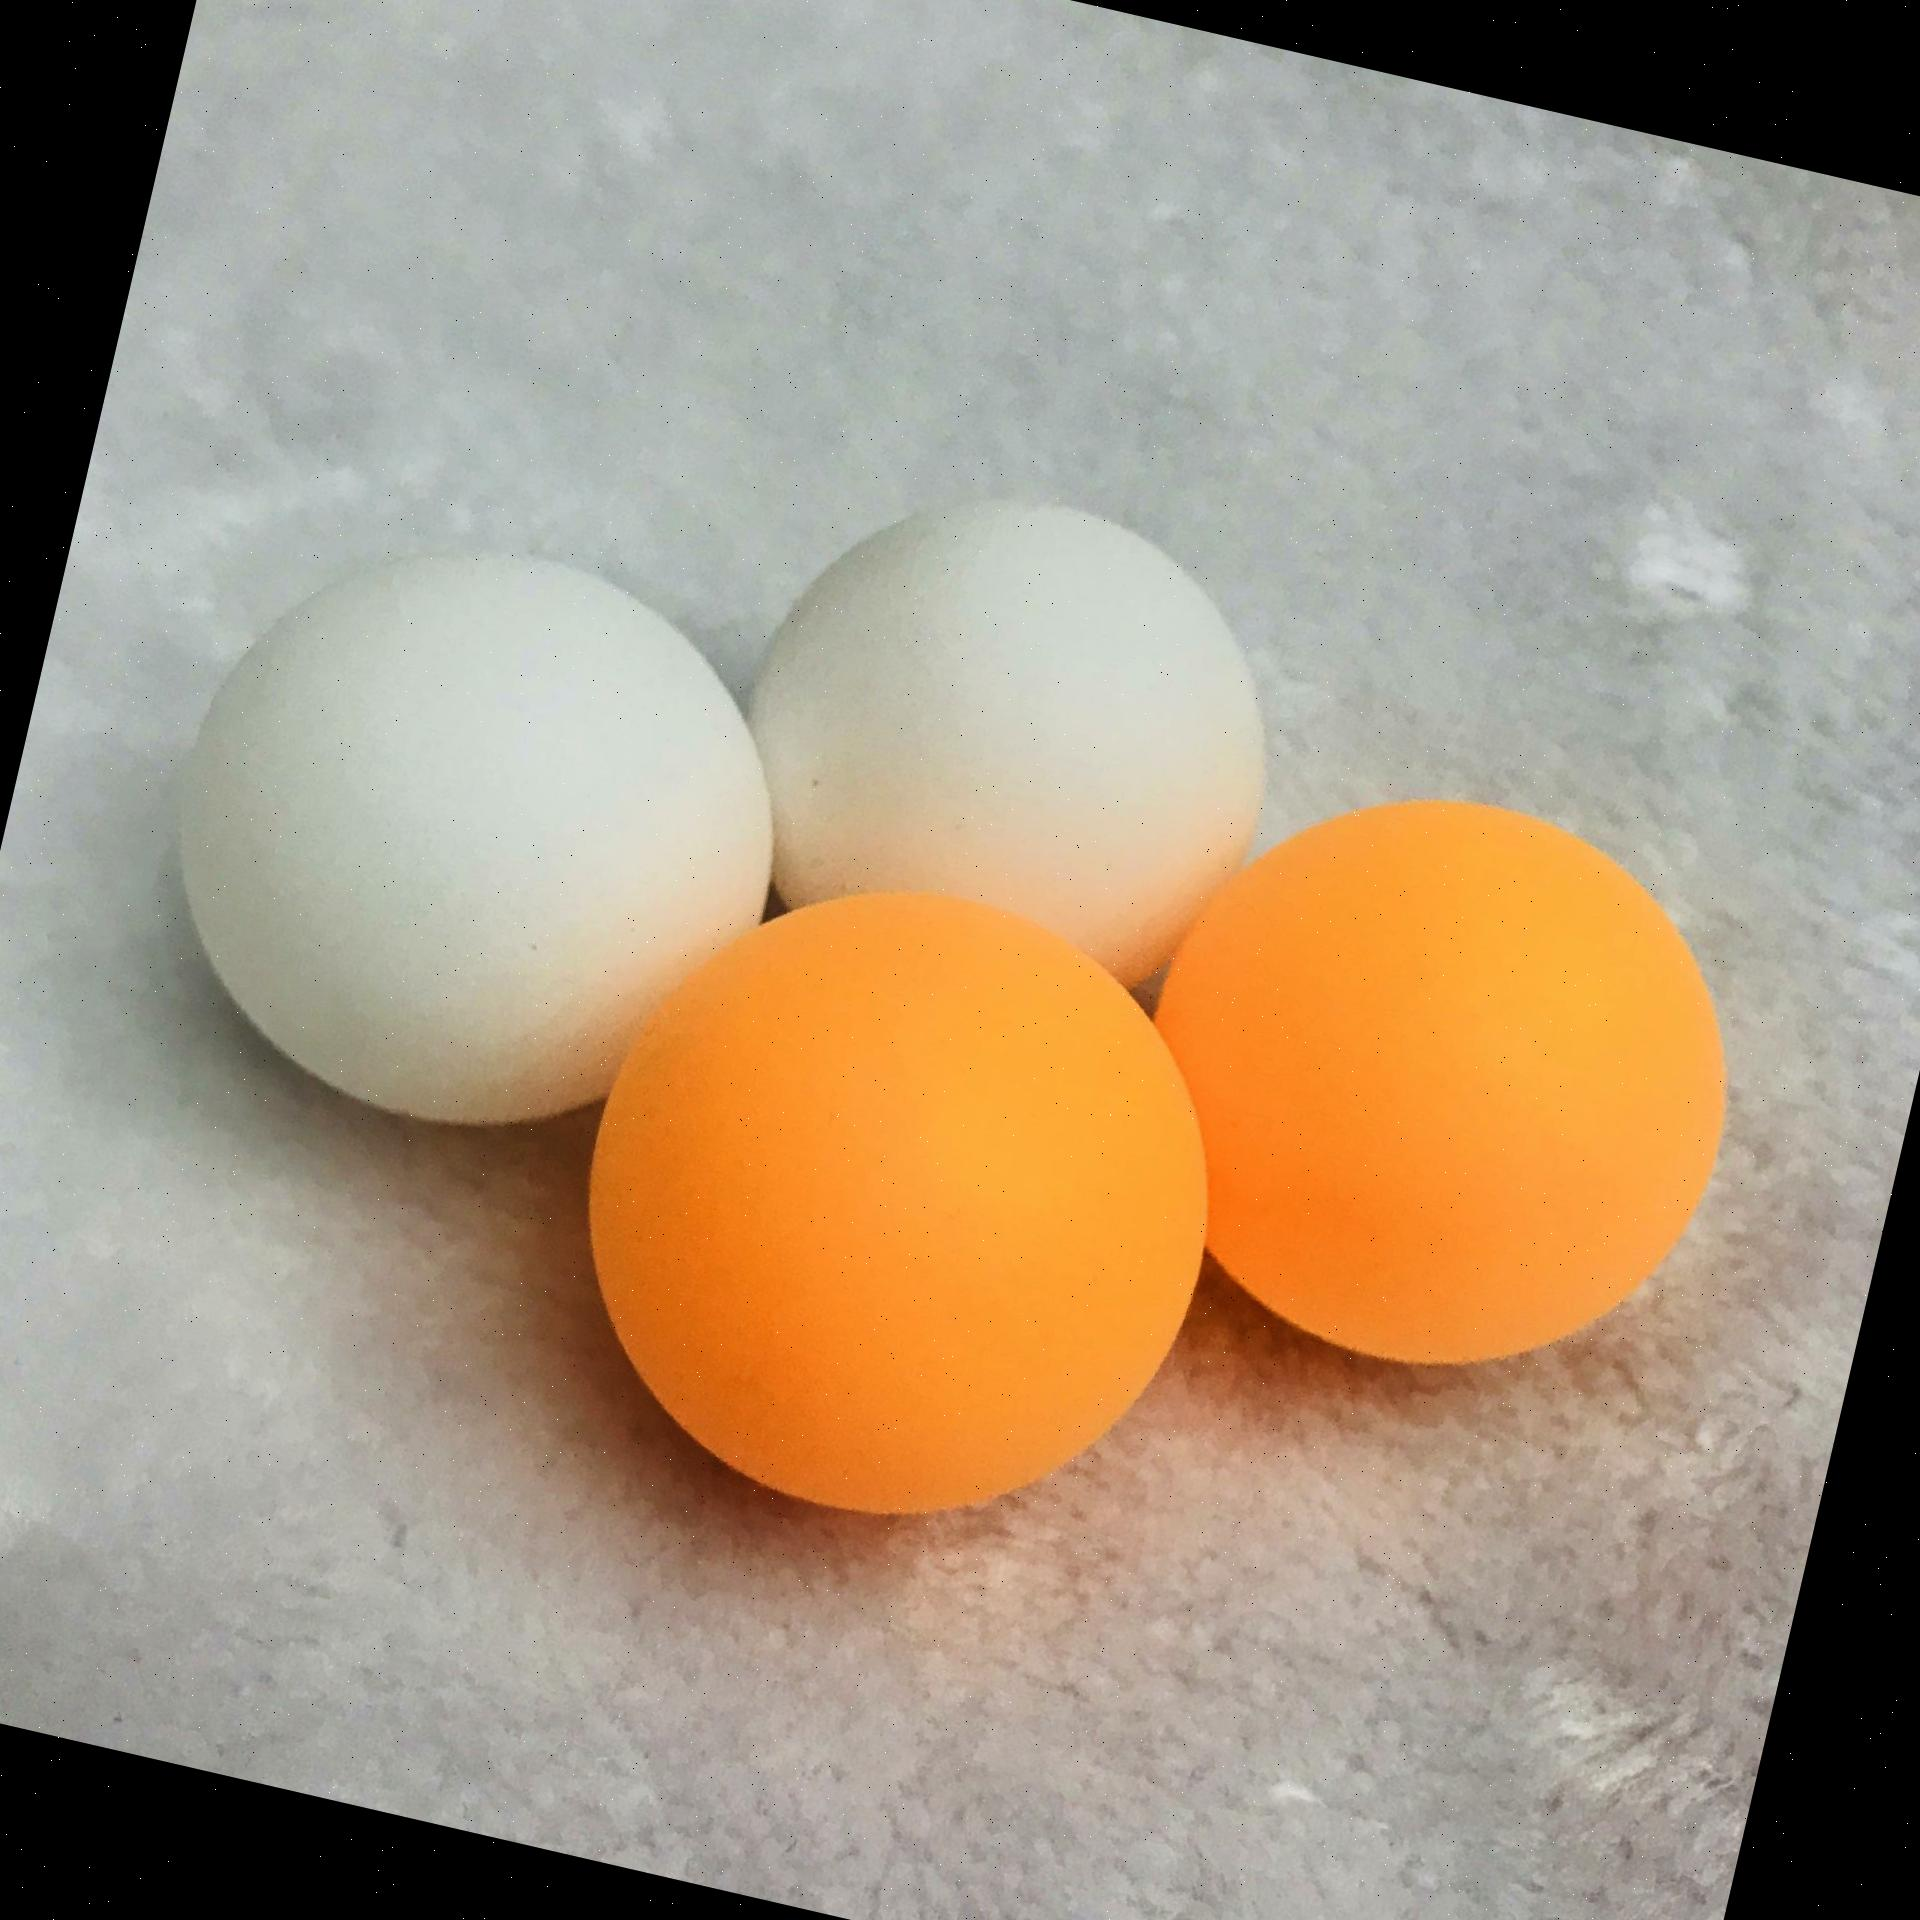ball: (499, 811, 1287, 1595), (1067, 719, 1802, 1447), (105, 476, 840, 1189), (680, 434, 1331, 1057)
